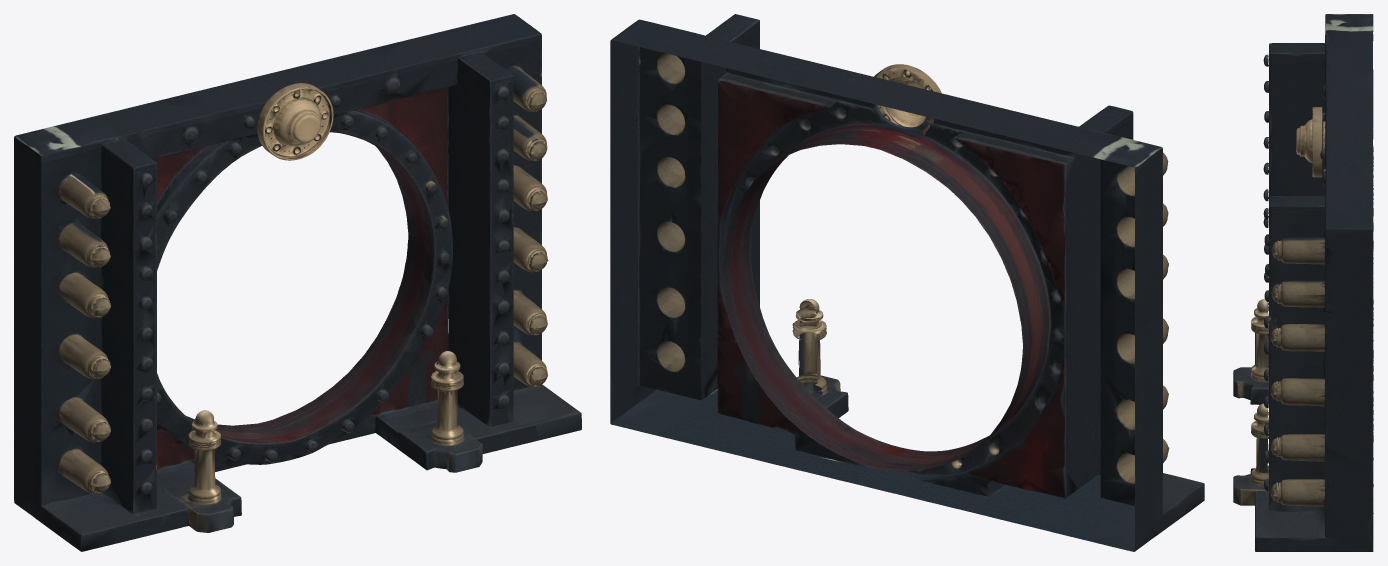
Rendered from vault_gate.glb.
3 renders of one model, left to right at view 1: azimuth 30°, elevation 25°; view 2: azimuth 150°, elevation 25°; view 3: azimuth 270°, elevation 25°, orthographic. The views are drawn at different scales.
Bounding box in the file's own units: 1.9 × 1.38 × 0.5246.
Materials: 1 (1 with a texture image).
